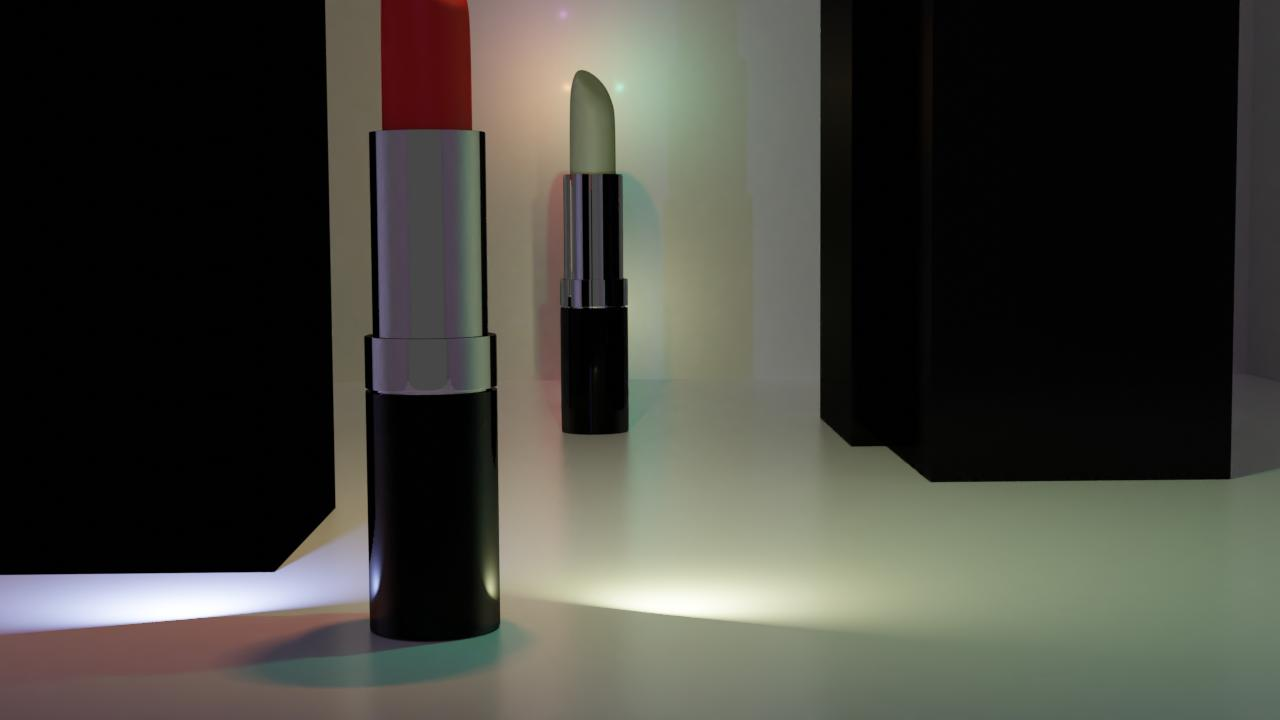CLASSIFIER_NAME: (362, 0, 503, 641), (559, 65, 629, 434)
